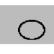no answer: (16, 18, 47, 42)
